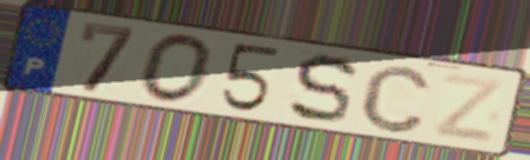5: (218, 40, 286, 113)
7: (75, 19, 140, 95)
C: (356, 62, 434, 136)
O: (137, 31, 218, 106)
S: (286, 53, 361, 126)
Z: (430, 71, 509, 146)
